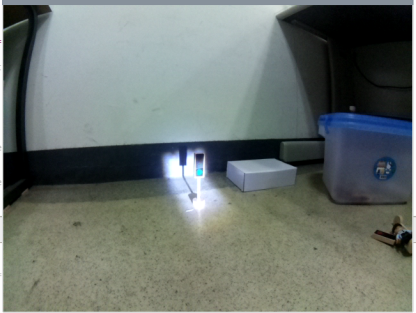Green: (192, 152, 207, 180)
